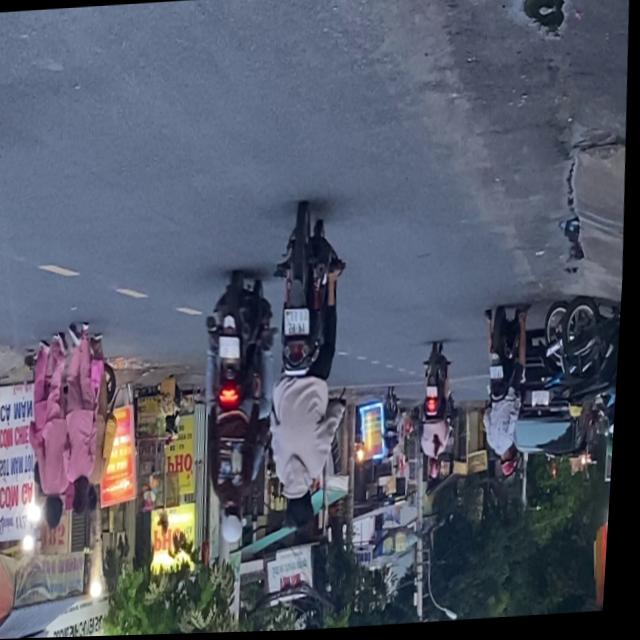helmet: (224, 504, 250, 545), (503, 451, 521, 480)
licenseplate: (257, 204, 362, 538), (194, 270, 287, 549), (478, 307, 538, 483)
motorcyclist: (287, 487, 319, 533)
nohelmet: (286, 309, 313, 336), (221, 337, 243, 360), (493, 367, 506, 382)
